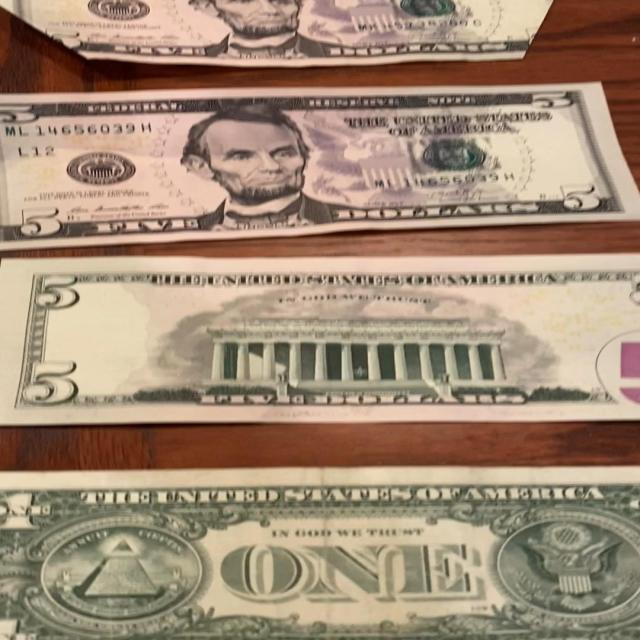1-Back: (0, 466, 640, 640)
5-Back: (0, 257, 640, 426)
5-Front: (0, 81, 640, 252), (0, 0, 561, 67)
